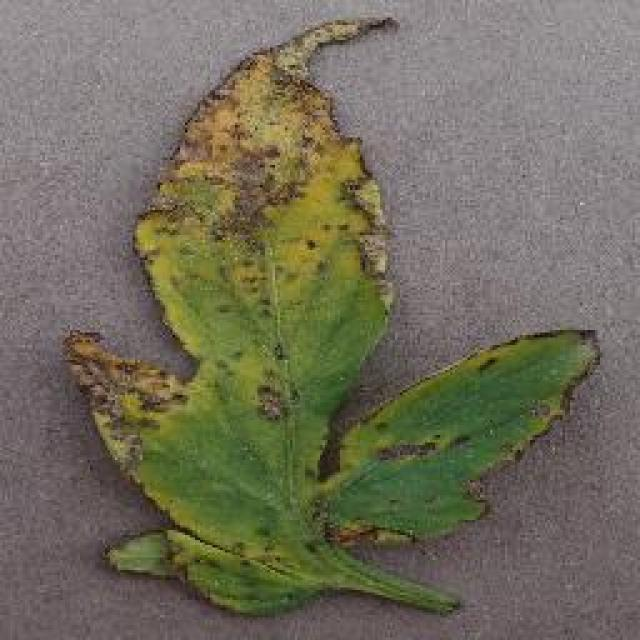Tomato bacterial spot leaf: (48, 3, 611, 624)
